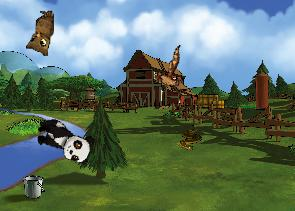eagle: (146, 45, 194, 100)
owl: (25, 9, 54, 56)
panda: (30, 114, 97, 167)
